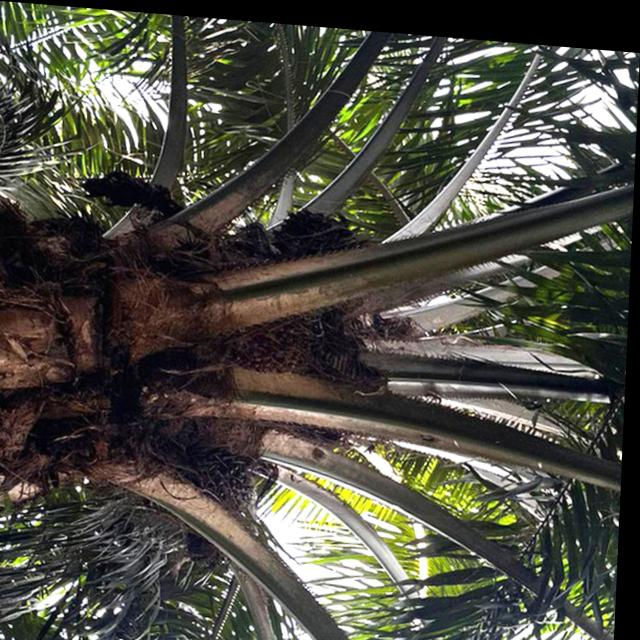ripe: (229, 296, 340, 377), (212, 447, 266, 513)
